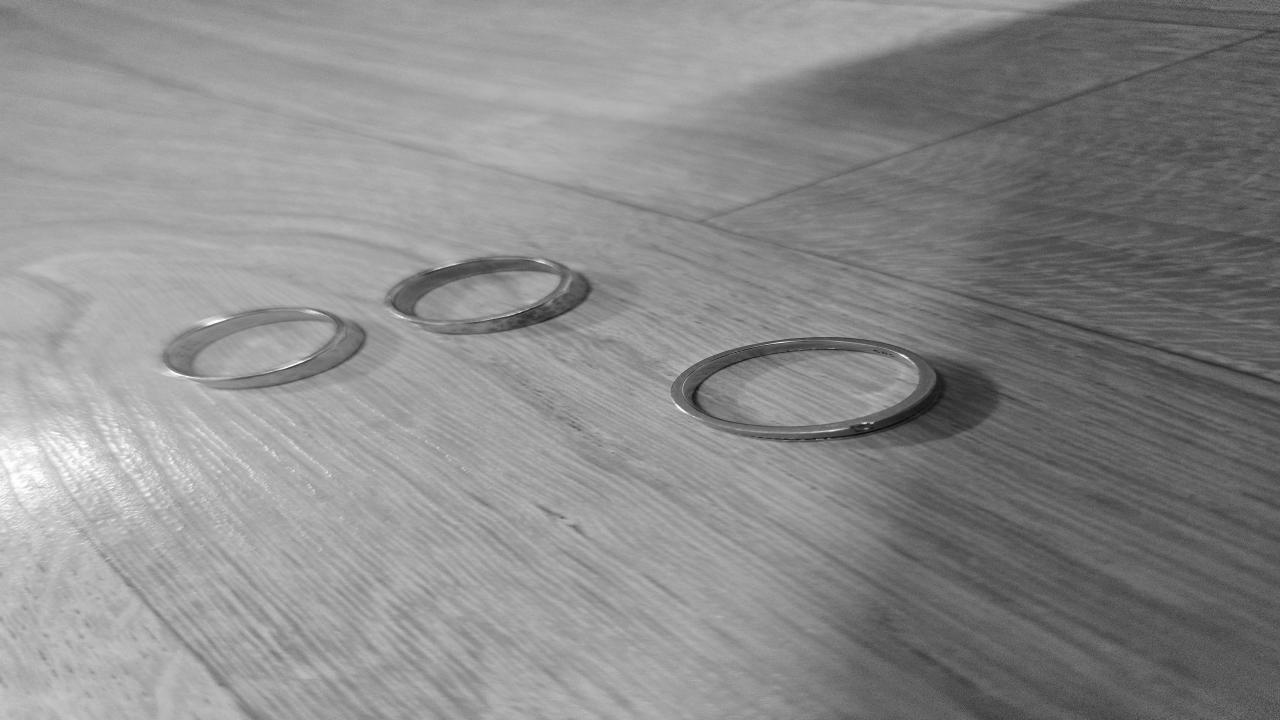ring: (671, 338, 938, 440), (156, 307, 359, 389), (380, 255, 586, 333)
